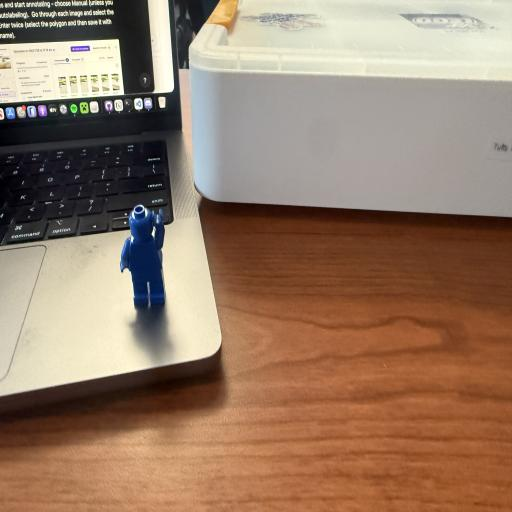Minifig: (120, 204, 165, 307)
